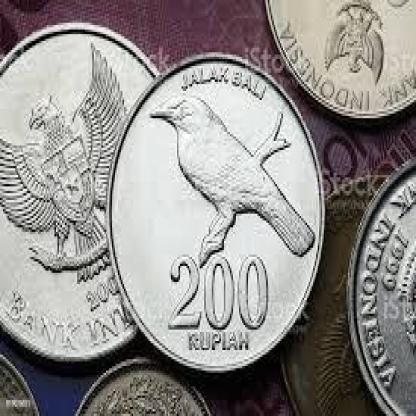coin_200_e2003: (104, 50, 328, 376), (0, 20, 156, 364)
